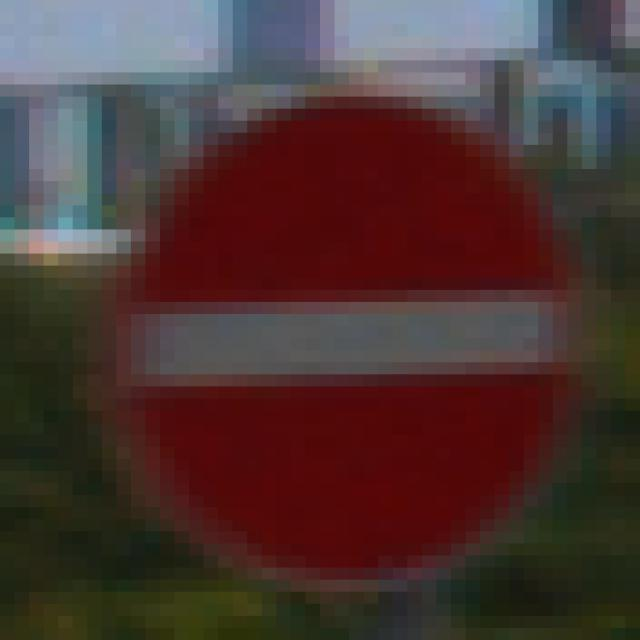No Entry: (89, 62, 569, 569)
